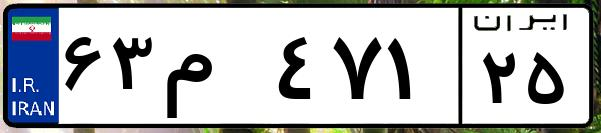1: (385, 28, 445, 110)
2: (475, 38, 525, 113)
3: (110, 28, 158, 98)
4: (270, 28, 330, 110)
5: (525, 38, 570, 115)
6: (57, 26, 110, 100)
7: (330, 28, 385, 110)
م: (158, 20, 270, 120)
